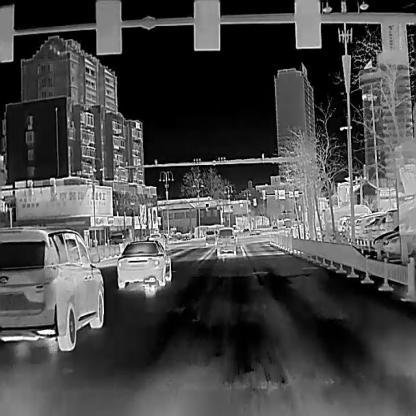car: (0, 226, 105, 352), (116, 240, 171, 289), (374, 219, 415, 255), (362, 212, 395, 241), (216, 226, 236, 255), (205, 229, 216, 245)
